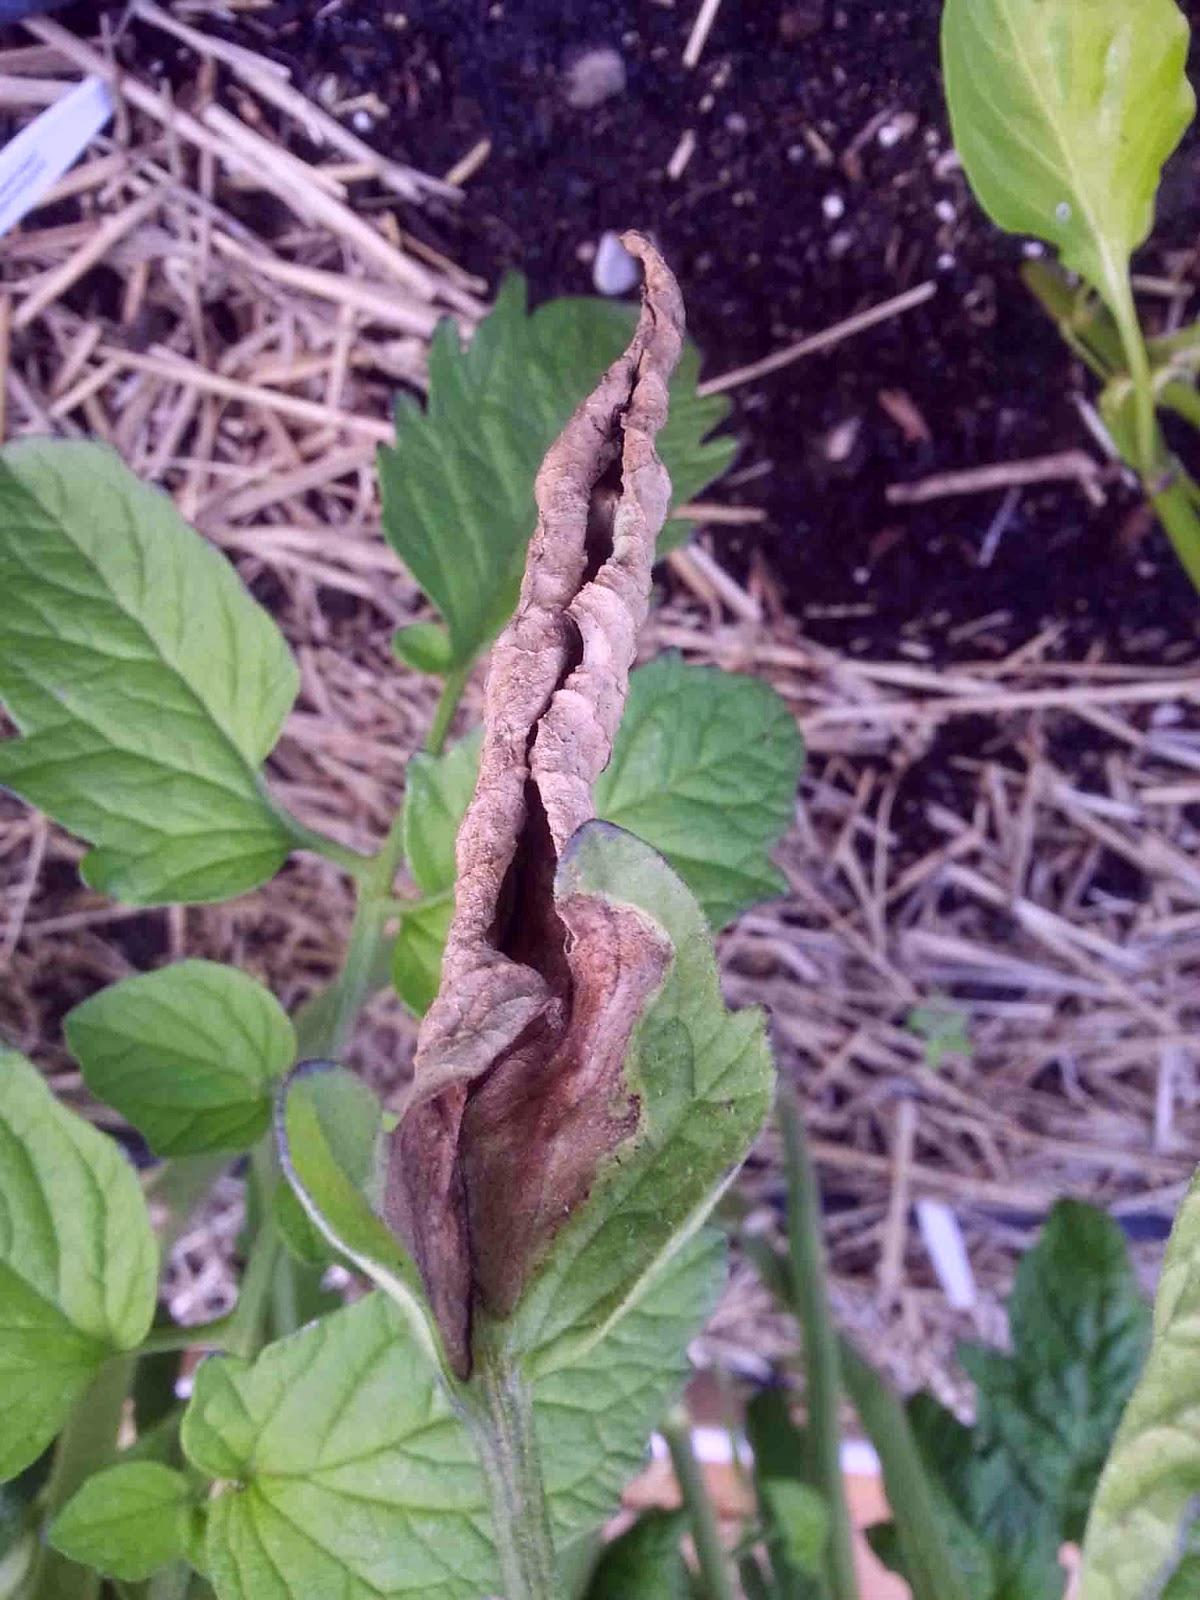Tomato leaf late blight: (302, 237, 770, 1437)
